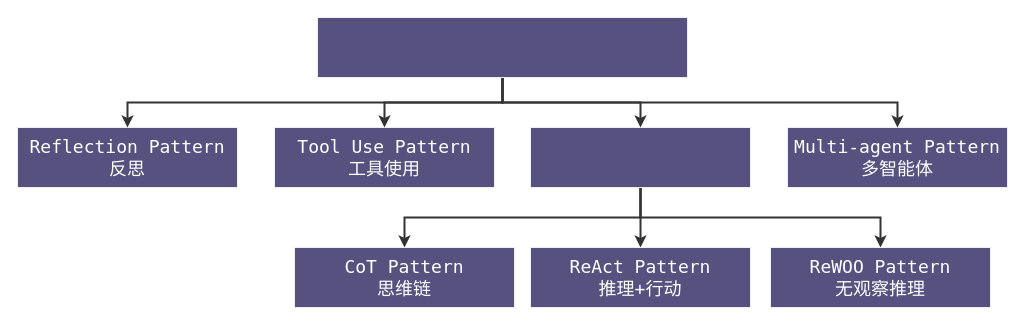
The diagram is 1025 pixels wide and 325 high, and some of its shapes have lost their labels. Each missing label, with the centre of its shape:
Agentic Reasoning Design Patterns 智能体推理设计模式: point 502,47
Planning Pattern 规划: point 640,157
